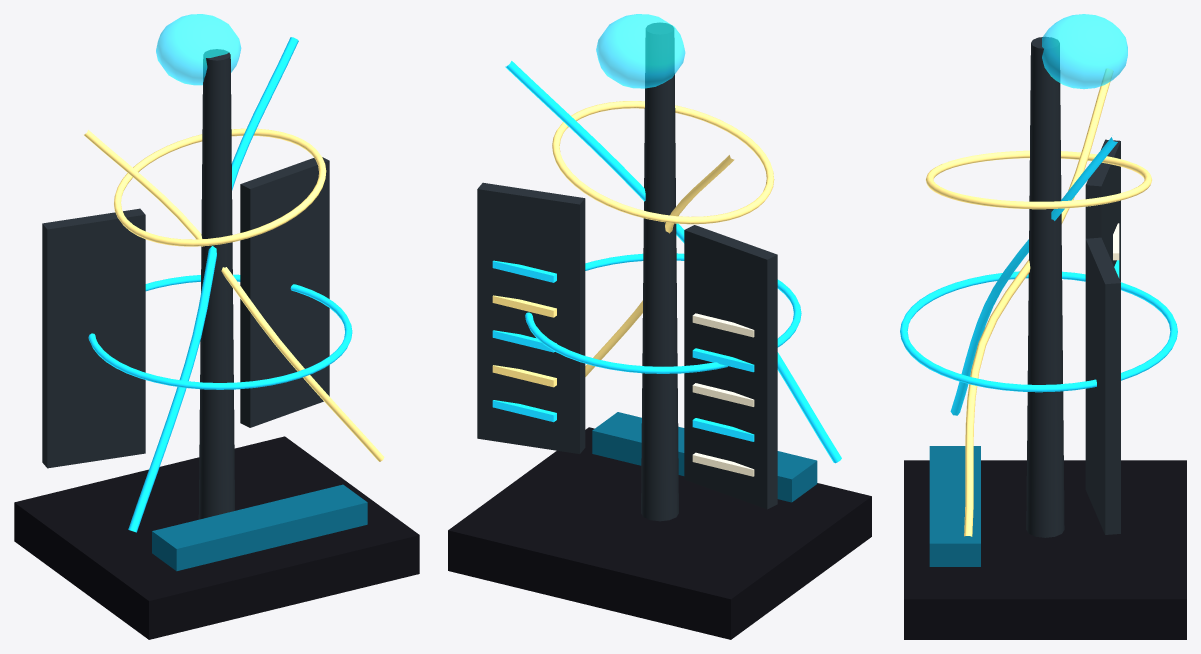
Rendered from telemetry-trace-beacon.glb.
The picture shows the model from 3 angles, left to right: view 1: azimuth 30°, elevation 25°; view 2: azimuth 150°, elevation 25°; view 3: azimuth 270°, elevation 25°; orthographic projection. The views are drawn at different scales.
Parts seen in each view (by area): view 1: trace-beacon-base, log-panel-left, log-panel-right, trace-beacon-spine, metric-stack-bottom, trace-beam-main, trace-beacon-head, trace-scan-loop-high, trace-scan-loop-low, trace-beam-secondary; view 2: trace-beacon-base, log-panel-right, log-panel-left, trace-beacon-spine, trace-beacon-head, metric-stack-bottom, trace-scan-loop-high, trace-beam-main, trace-scan-loop-low, trace-beam-secondary, log-line-right-3, log-line-right-1 (+7 smaller); view 3: trace-beacon-base, trace-beacon-spine, log-panel-right, metric-stack-bottom, trace-beacon-head, trace-scan-loop-low, trace-beam-secondary, trace-scan-loop-high, log-panel-left, trace-beam-main.
Part boxes in pixels (<box>): trace-beacon-base: <box>14,436,419,639</box>; log-panel-left: <box>42,208,145,468</box>; log-panel-right: <box>240,157,329,427</box>; trace-beacon-spine: <box>198,49,234,519</box>; metric-stack-bottom: <box>152,484,367,571</box>; trace-beam-main: <box>128,37,298,532</box>; trace-beacon-head: <box>156,14,241,85</box>; trace-scan-loop-high: <box>114,128,326,246</box>; trace-scan-loop-low: <box>88,274,352,389</box>; trace-beam-secondary: <box>83,130,384,461</box>; trace-beacon-base: <box>448,427,871,639</box>; log-panel-right: <box>477,182,585,453</box>; log-panel-left: <box>684,225,777,509</box>; trace-beacon-spine: <box>641,22,678,521</box>; trace-beacon-head: <box>596,14,685,88</box>; metric-stack-bottom: <box>592,412,817,502</box>; trace-scan-loop-high: <box>552,101,774,224</box>; trace-beam-main: <box>505,61,841,463</box>; trace-scan-loop-low: <box>525,253,801,373</box>; trace-beam-secondary: <box>585,155,734,376</box>; log-line-right-3: <box>492,295,556,317</box>; log-line-right-1: <box>492,365,556,387</box>; trace-beacon-base: <box>904,460,1186,639</box>; trace-beacon-spine: <box>1026,37,1064,537</box>; log-panel-right: <box>1085,237,1120,534</box>; metric-stack-bottom: <box>929,446,980,566</box>; trace-beacon-head: <box>1042,14,1127,88</box>; trace-scan-loop-low: <box>900,271,1177,392</box>; trace-beam-secondary: <box>964,68,1113,536</box>; trace-scan-loop-high: <box>926,150,1151,209</box>; log-panel-left: <box>1085,139,1120,281</box>; trace-beam-main: <box>950,137,1117,415</box>.
Size of the model in its own units: 1.06 by 1.89 by 0.892.
